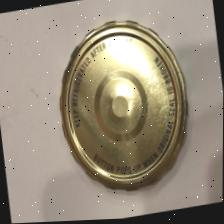metal: (33, 3, 224, 223)
